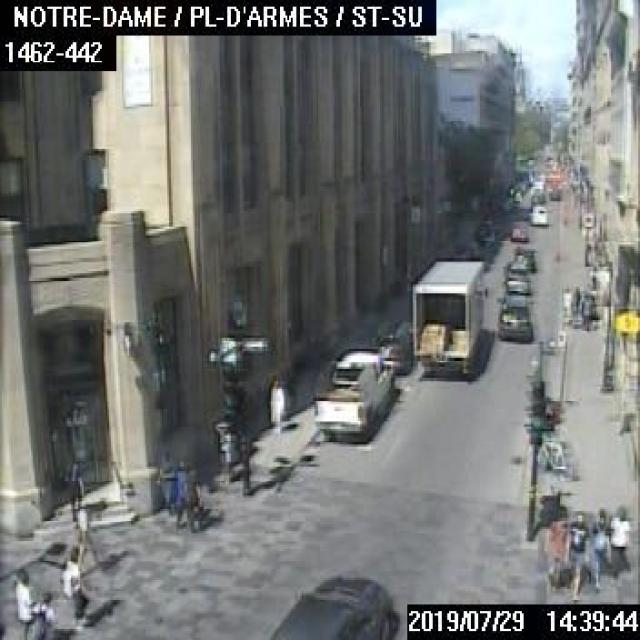pedestrian: (62, 546, 90, 622), (72, 503, 100, 573), (168, 459, 194, 531), (567, 510, 588, 598), (588, 504, 610, 588), (544, 510, 566, 587), (11, 566, 34, 638), (610, 502, 631, 574), (153, 449, 175, 510), (184, 463, 203, 528), (62, 461, 82, 521), (32, 589, 56, 637), (267, 376, 284, 431), (558, 282, 571, 322), (570, 284, 580, 322), (581, 292, 590, 330)
vehicle: (410, 257, 482, 377), (269, 573, 398, 638), (311, 350, 393, 442), (493, 294, 536, 340), (370, 329, 411, 370), (504, 261, 531, 291), (510, 247, 538, 269), (471, 213, 493, 240), (528, 200, 548, 224), (509, 222, 526, 240)
